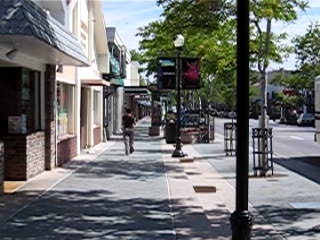person: (121, 104, 136, 155), (120, 104, 135, 155), (122, 104, 137, 155), (121, 103, 136, 154), (121, 105, 136, 156)
target_negative: (216, 155, 316, 199), (239, 89, 257, 238), (140, 213, 266, 227), (143, 160, 205, 172), (296, 169, 297, 197), (111, 202, 115, 203)
